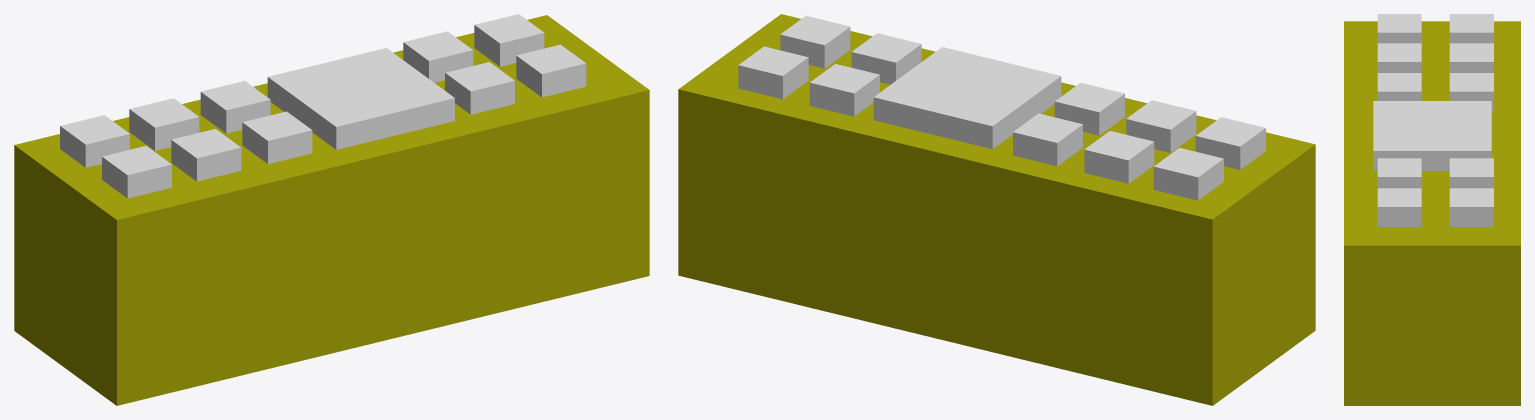
File: itemButton.fbx
3 renders of one model, left to right at view 1: azimuth 30°, elevation 25°; view 2: azimuth 150°, elevation 25°; view 3: azimuth 270°, elevation 25°, orthographic. The views are drawn at different scales.
Parts seen in each view (by area): view 1: blankItem, Button1.006, Button1.005, Button1.008, Button1, Button.001, Button1.007, Button1.002, Button1.003, Button1.001, Button, Button1.004; view 2: blankItem, Button1.006, Button1.003, Button1.002, Button, Button1.001, Button1.004, Button1, Button1.008, Button.001, Button1.005, Button1.007; view 3: blankItem, Button1.006, Button1.003, Button1.008, Button1.004, Button1.007, Button1.002, Button1, Button, Button.001, Button1.001, Button1.005.
Part boxes in pixels (box(x1,y1,x2,y2)): blankItem: box(14, 15, 649, 405); Button1.006: box(267, 48, 454, 149); Button1.005: box(242, 111, 312, 164); Button1.008: box(516, 44, 586, 97); Button1: box(171, 129, 241, 181); Button.001: box(102, 145, 171, 198); Button1.007: box(445, 62, 514, 114); Button1.002: box(129, 98, 199, 150); Button1.003: box(474, 14, 544, 66); Button1.001: box(200, 81, 270, 133); Button: box(60, 115, 129, 167); Button1.004: box(403, 31, 473, 82); blankItem: box(678, 14, 1315, 405); Button1.006: box(873, 47, 1061, 149); Button1.003: box(738, 46, 808, 99); Button1.002: box(1084, 131, 1154, 183); Button: box(1153, 148, 1223, 200); Button1.001: box(1013, 113, 1082, 166); Button1.004: box(809, 64, 879, 116); Button1: box(1126, 100, 1196, 152); Button1.008: box(780, 15, 850, 68); Button.001: box(1195, 117, 1265, 169); Button1.005: box(1054, 82, 1124, 135); Button1.007: box(851, 33, 921, 84); blankItem: box(1344, 21, 1520, 405); Button1.006: box(1373, 101, 1491, 170); Button1.003: box(1449, 188, 1493, 226); Button1.008: box(1377, 188, 1421, 226); Button1.004: box(1449, 158, 1493, 188); Button1.007: box(1377, 158, 1421, 188); Button1.002: box(1449, 43, 1493, 72); Button1: box(1377, 43, 1421, 72); Button: box(1449, 14, 1493, 43); Button.001: box(1377, 14, 1421, 43); Button1.001: box(1449, 73, 1493, 111); Button1.005: box(1377, 73, 1421, 100).
Bounding box in the file's own units: 600 × 225 × 200.
